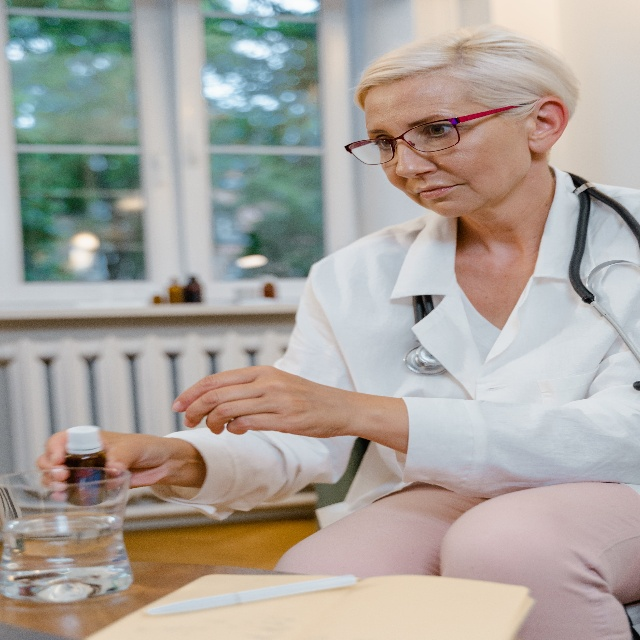Gafas: (344, 95, 540, 165)
Sin_guantes: (171, 363, 352, 437), (35, 425, 171, 499)
